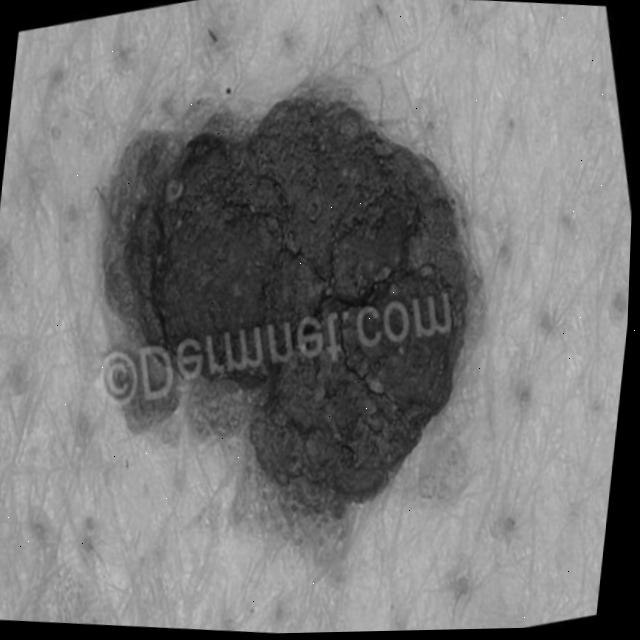Eczema: (51, 56, 529, 584)
